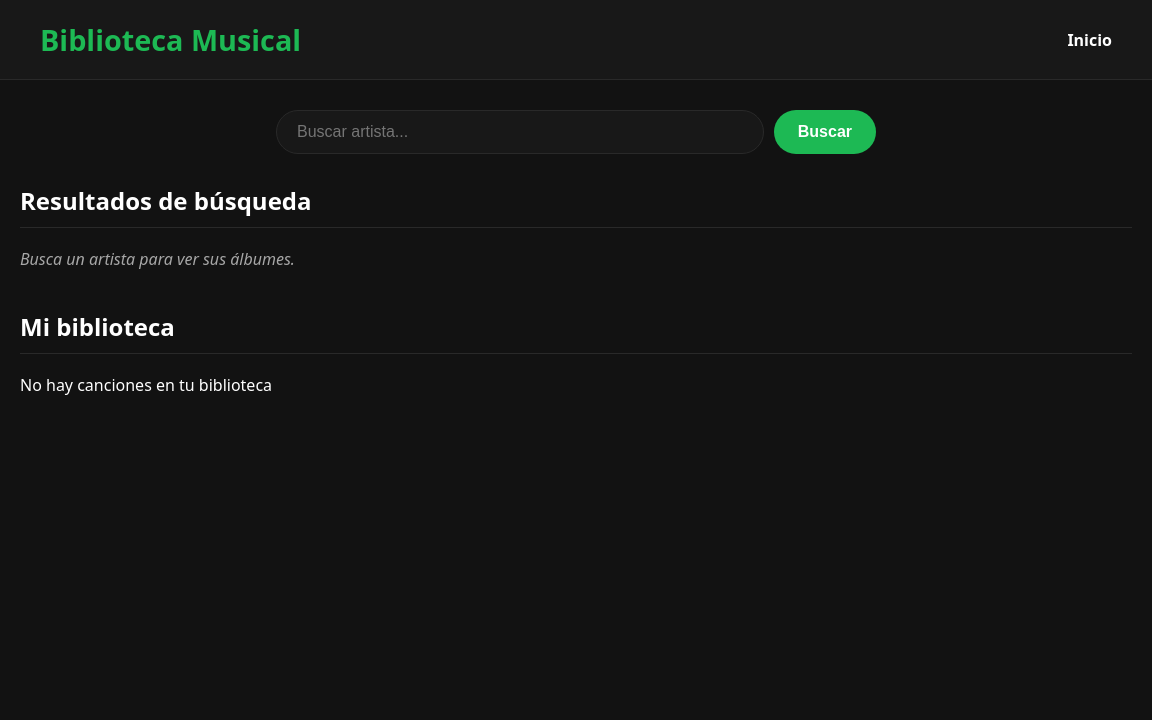
App › busca canciones y muestra los resultados
Type "Queen" into the field with placeholder "Buscar artista..." at (520, 132), box [276, 110, 764, 154]
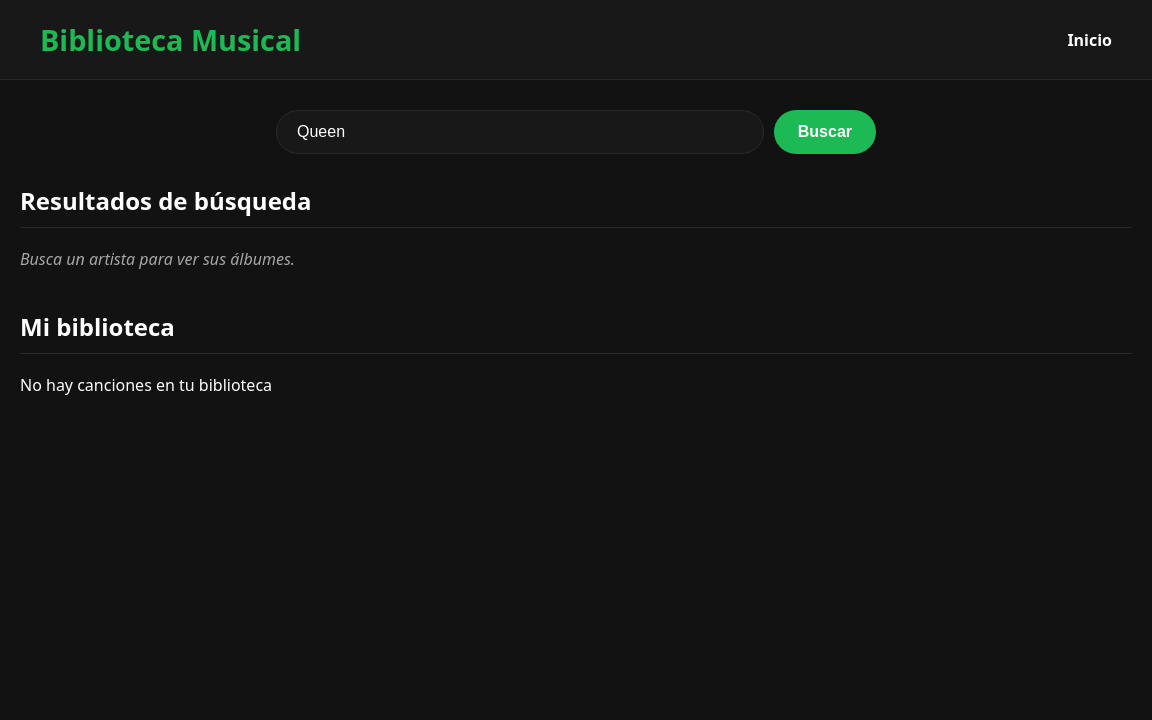
Click the button "Buscar" at (825, 132), box [774, 110, 876, 154]
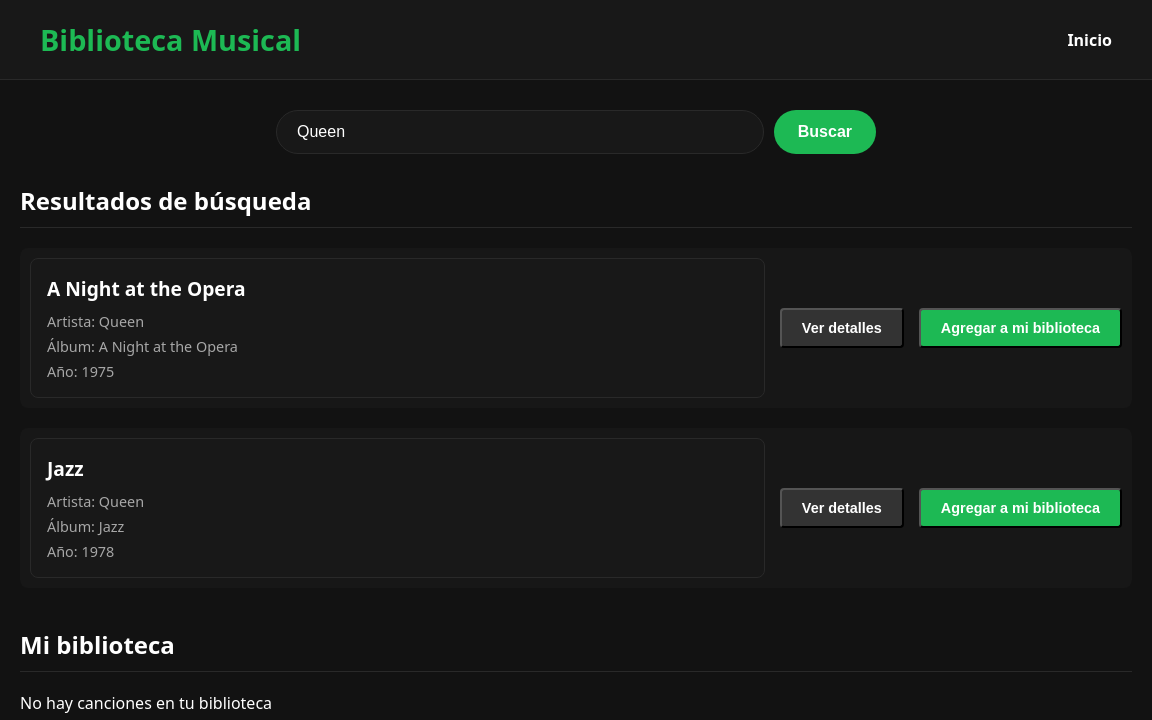
expect the heading "A Night at the Opera" is shown: met, box [47, 275, 246, 302]
expect the heading "Jazz" is shown: met, box [47, 455, 84, 482]
expect the text "Artista: Queen" is shown 2 times: met, box [47, 312, 144, 331]; [47, 492, 144, 511]
